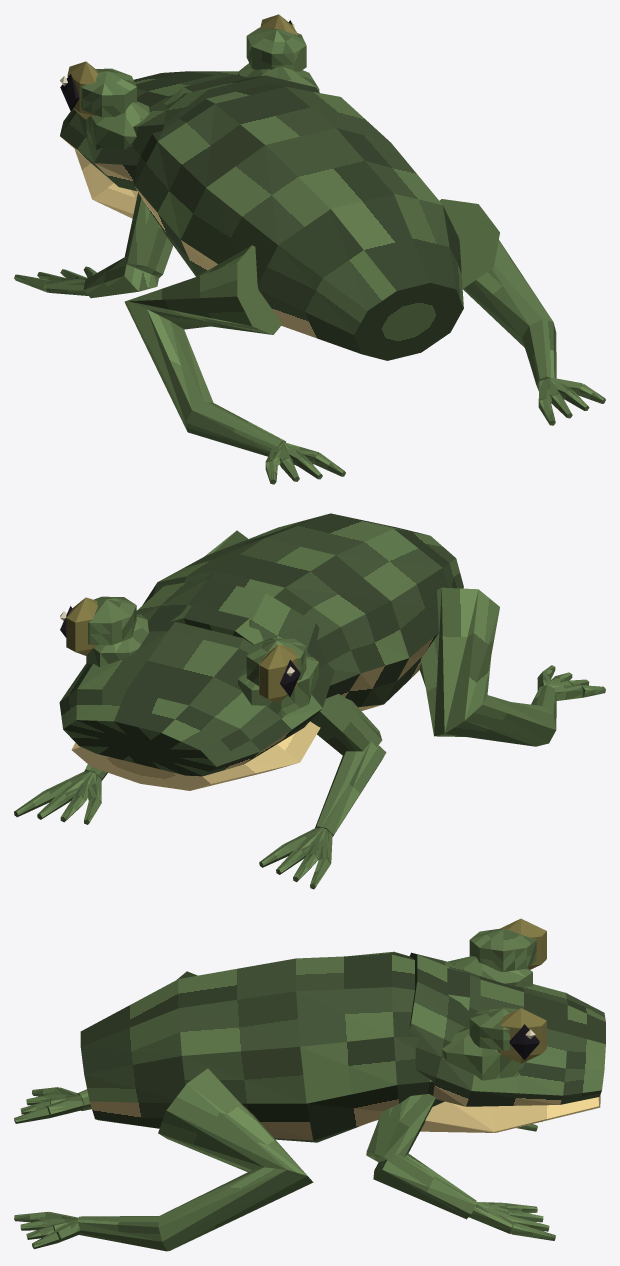
The model's file is mon_green_frog.glb.
3 views of the same model, one above another, from view 1: azimuth 30°, elevation 25°; view 2: azimuth 150°, elevation 25°; view 3: azimuth 270°, elevation 25° (orthographic). The views are drawn at different scales.
Visible parts, largest first — view 1: closed_body; view 2: closed_body; view 3: closed_body.
Boxes of the visible parts, <box> form: closed_body: <box>14,14,605,484</box>; closed_body: <box>14,513,605,889</box>; closed_body: <box>14,918,605,1251</box>.
Bounding box in the file's own units: 0.1204 × 0.0682 × 0.1748.
Materials: 1 (1 with a texture image).
